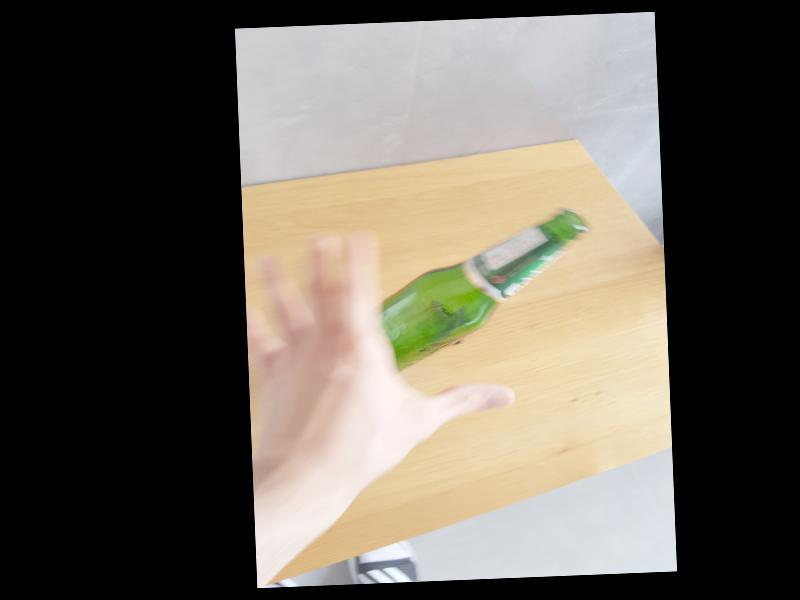Beer: (377, 208, 595, 373)
